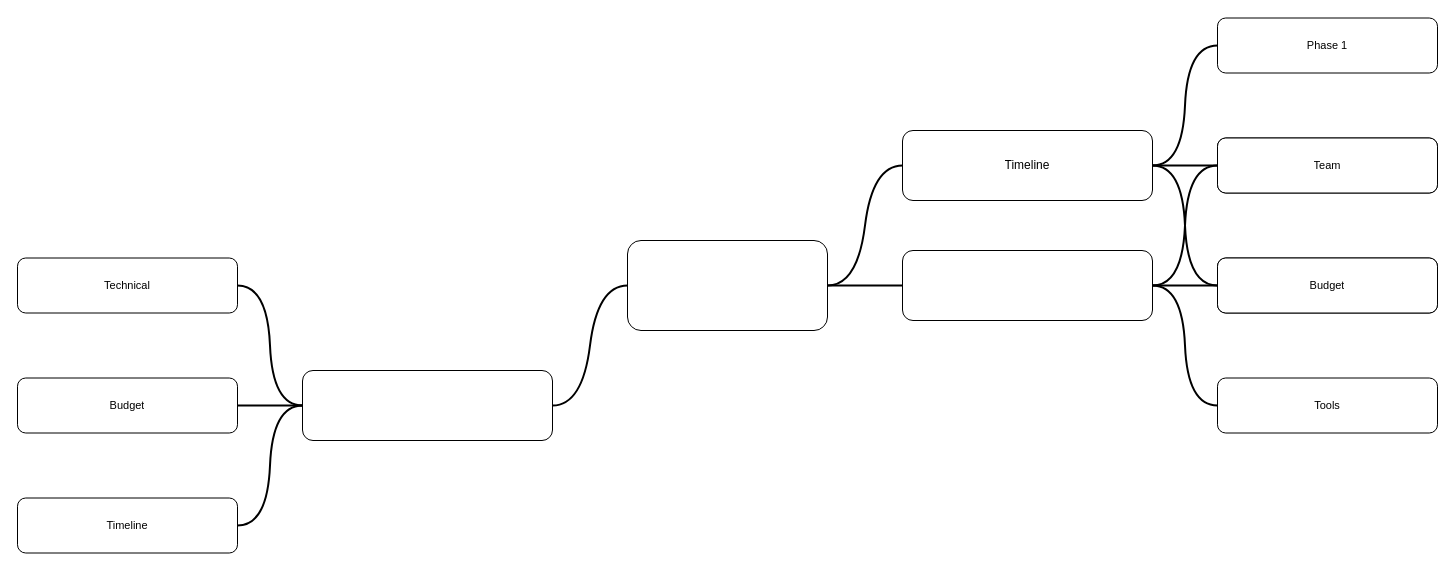
Some shapes in this 1455 by 570 pixel diagram are drawn without their labels. The shapes that lost their labels are listed below. From the top down, each one's centre as x and y in pixels, then its label:
At (x=727, y=285): "Project Planning".
At (x=1027, y=285): "Resources".
At (x=427, y=405): "Risks".
